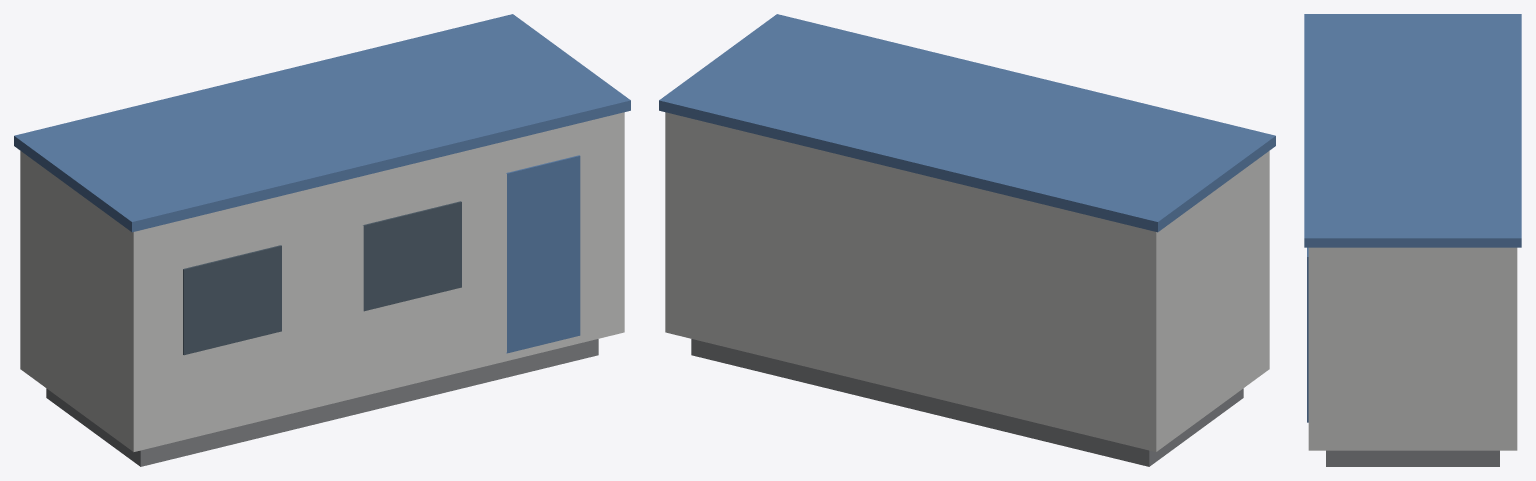
The model's file is bungalow.glb.
3 renders of one model, left to right at view 1: azimuth 30°, elevation 25°; view 2: azimuth 150°, elevation 25°; view 3: azimuth 270°, elevation 25°, orthographic. The views are drawn at different scales.
Visible parts, largest first — view 1: bungalow; view 2: bungalow; view 3: bungalow.
Part boxes in pixels (bbox=[...]): bungalow: bbox=[14, 14, 630, 466]; bungalow: bbox=[659, 14, 1275, 466]; bungalow: bbox=[1304, 14, 1521, 466].
Size of the model in its own units: 6.1 by 3.02 by 2.5.
